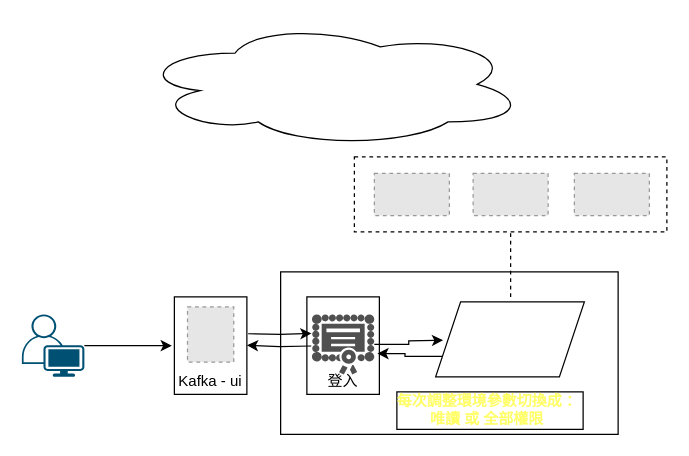
Some shapes in this 689 by 456 pixel diagram are drawn without their labels. Grey dashed boxes stand in for pictures. Here are the shapes that lost their labels. From the top down, the box of each, then its label:
(137, 21, 526, 147): Kafka -UI 增加驗證模式 [登入] - 權限 - 唯讀取
(434, 301, 584, 377): [操作權限] 讀取
